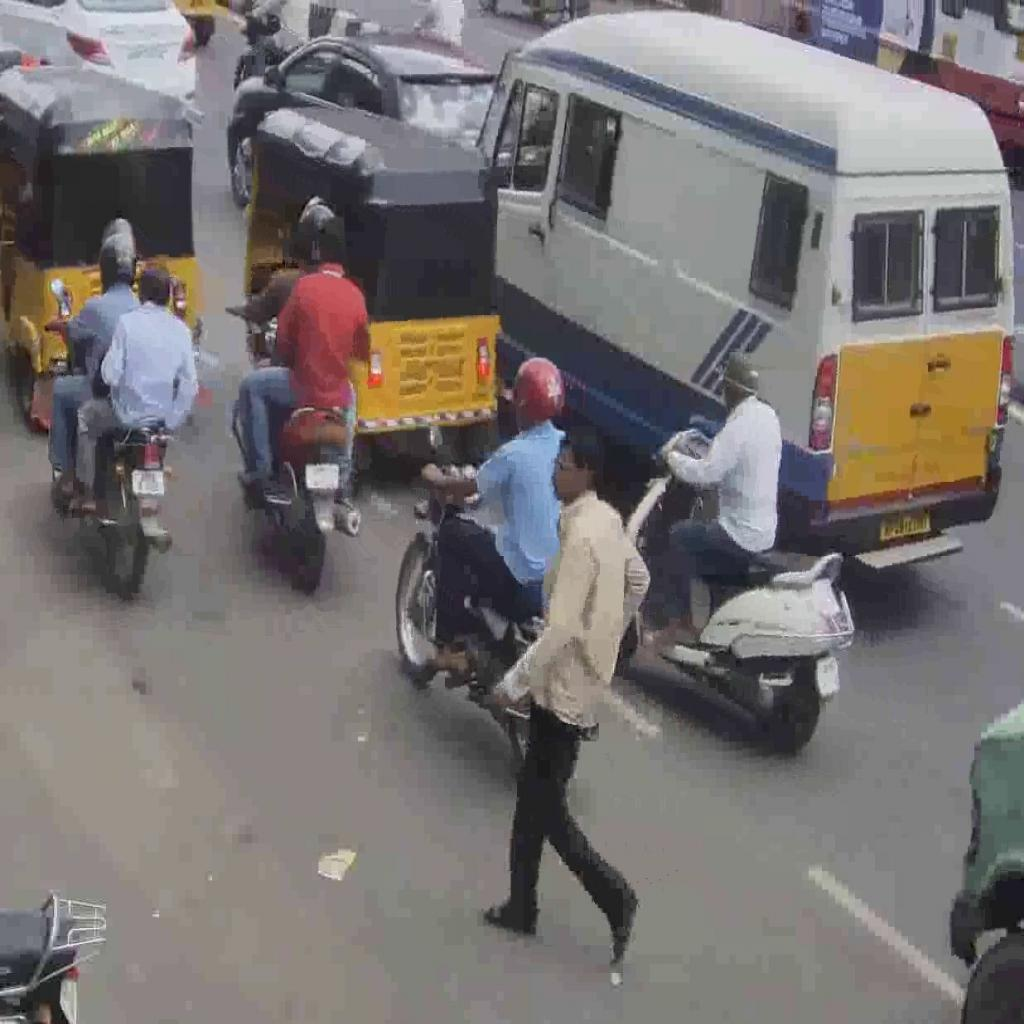helmet: (620, 422, 854, 754), (395, 459, 600, 785), (46, 310, 176, 600), (234, 298, 362, 590)
